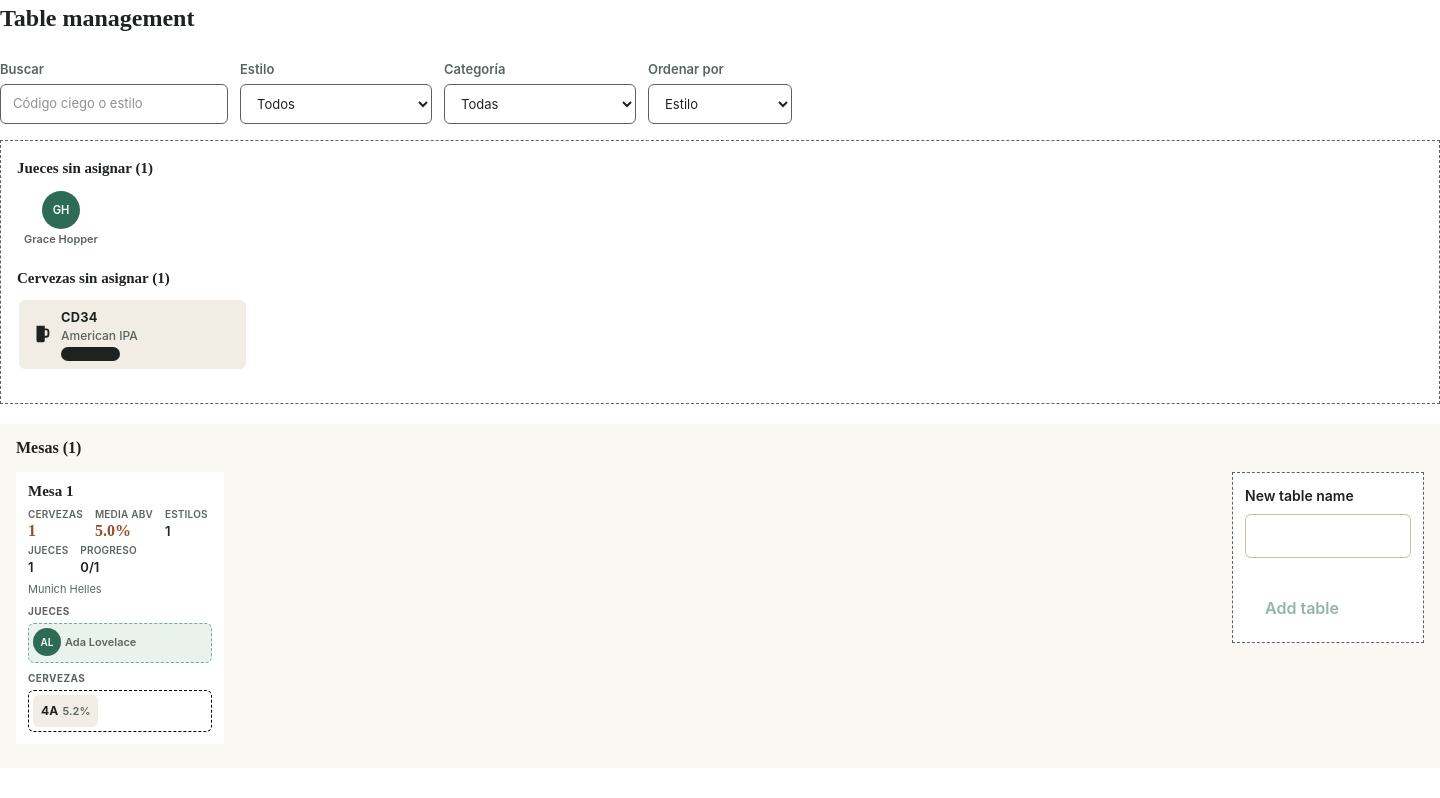
Scenario: TableBoardComponent › exposes exactly one role="status" region, containing a Dismiss button, when the BOS banner is shown (pinned for getByRole("status"))
Type "Mesa 2" into the field with id "new-table-name".
click(1328, 536); type("Mesa 2")  # box x1=1245 y1=514 x2=1411 y2=558
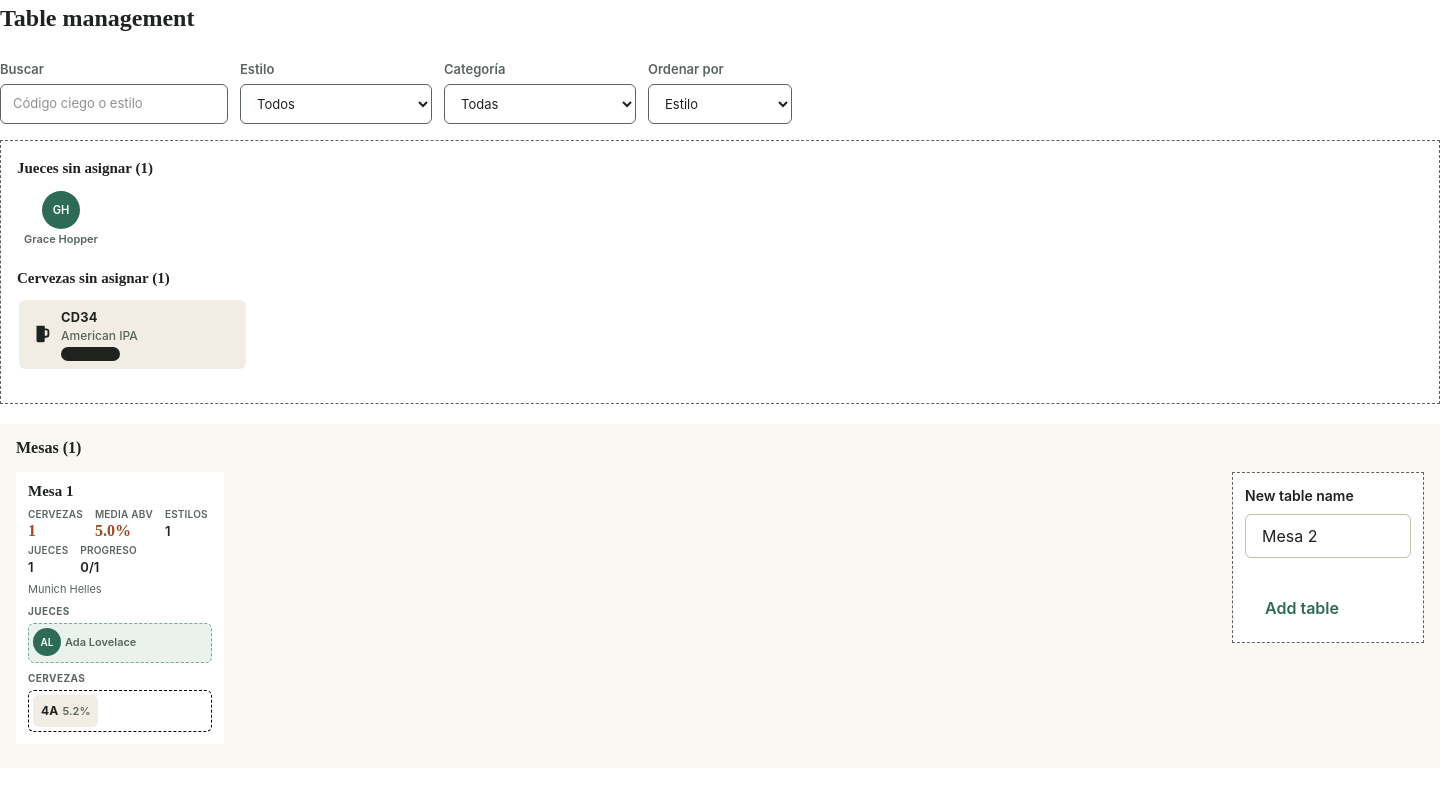
Click the button "Add table".
click(1302, 608)  # box x1=1245 y1=586 x2=1359 y2=630
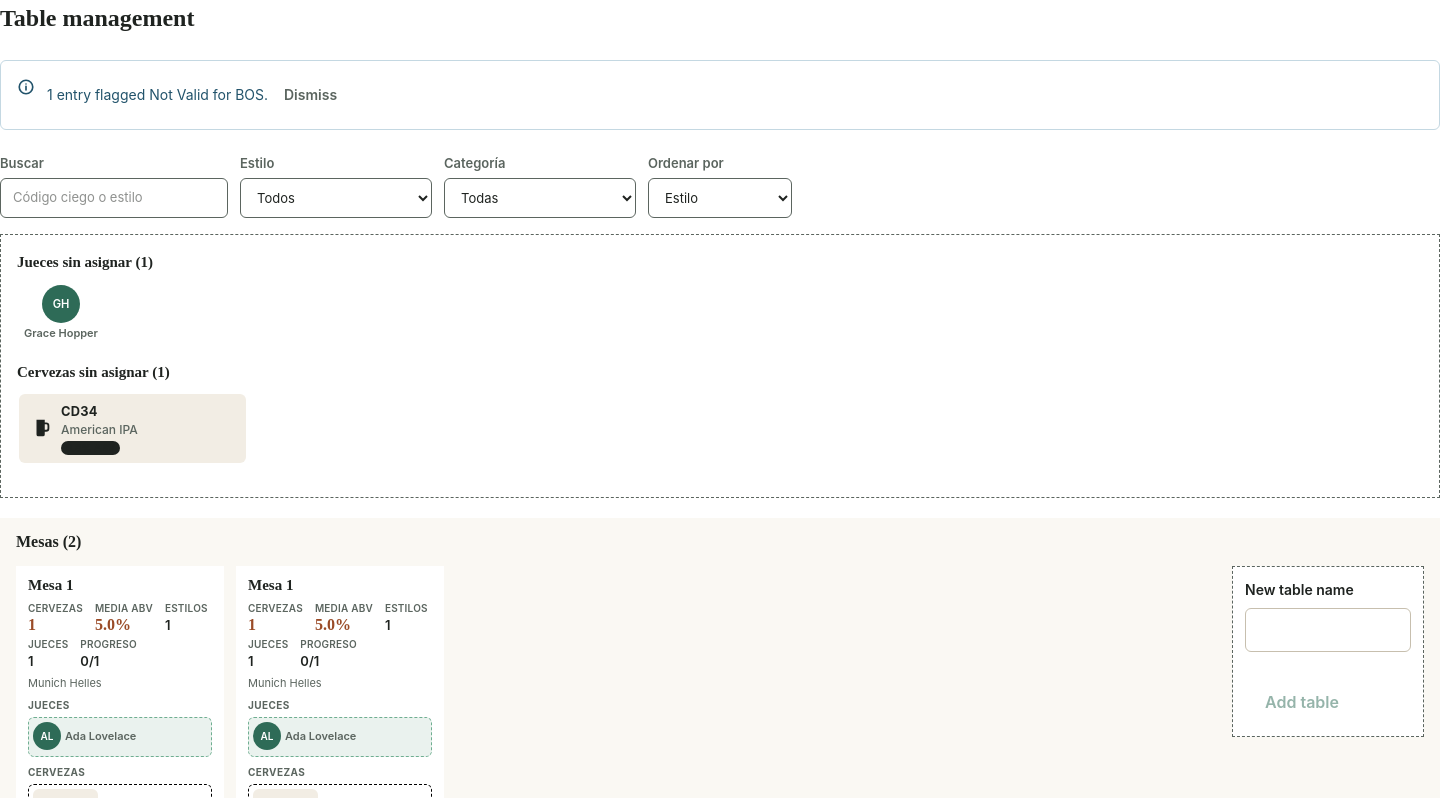
Expected: the number of messages is 1, x1=0 y1=60 x2=1439 y2=130
Expected: the button "Dismiss" is shown, x1=272 y1=77 x2=349 y2=113
